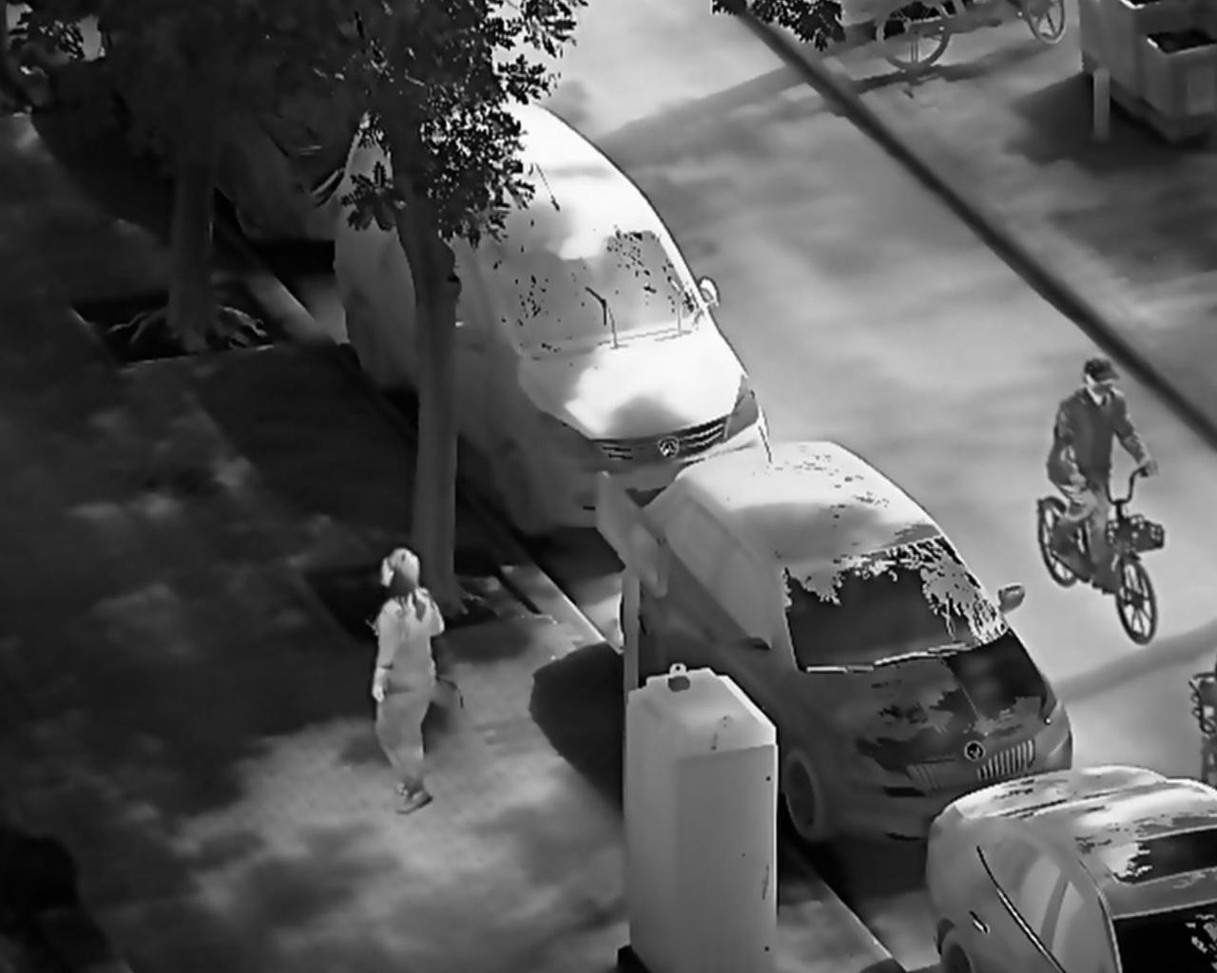person: (1044, 357, 1158, 584), (369, 546, 449, 817)
